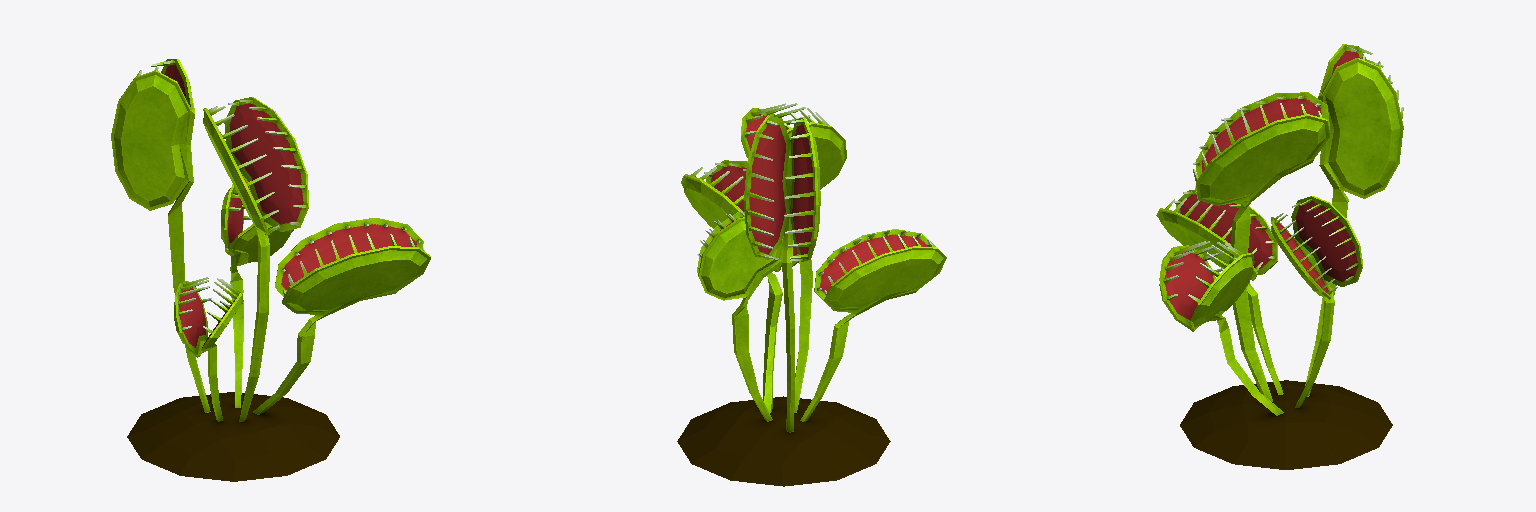
The picture shows the model from 3 angles: view 1: azimuth 30°, elevation 25°; view 2: azimuth 150°, elevation 25°; view 3: azimuth 270°, elevation 25°; orthographic projection.
Visible parts, largest first — view 1: VenusFlyTrap_mesh; view 2: VenusFlyTrap_mesh; view 3: VenusFlyTrap_mesh.
Part boxes in pixels (x1,y1,x2,y2): VenusFlyTrap_mesh: (111, 59, 430, 481); VenusFlyTrap_mesh: (677, 103, 946, 486); VenusFlyTrap_mesh: (1156, 44, 1403, 469).
Bounding box in the file's own units: 8.08 × 10.81 × 6.79.
Materials: 1 (1 with a texture image).